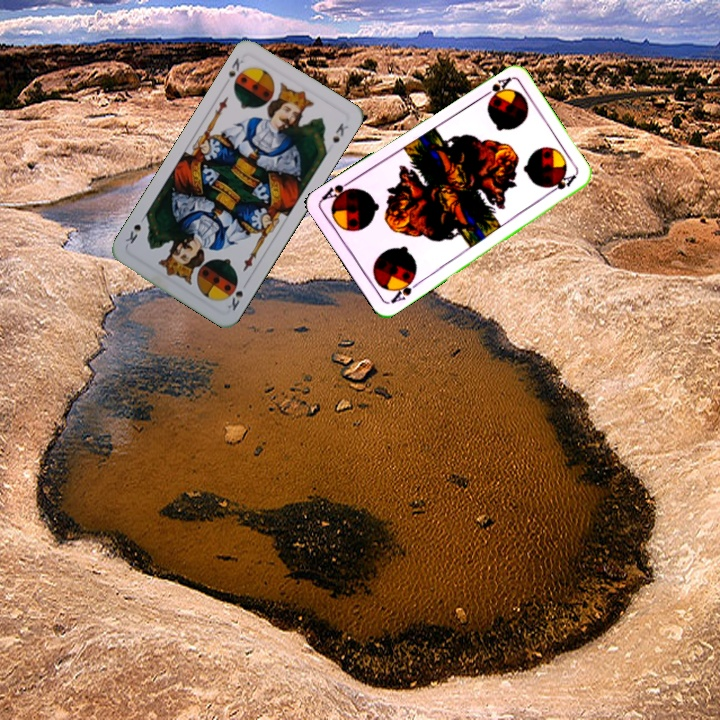SA: (386, 273, 422, 306), (477, 73, 513, 102)
SK: (223, 277, 251, 314), (224, 53, 246, 81)
